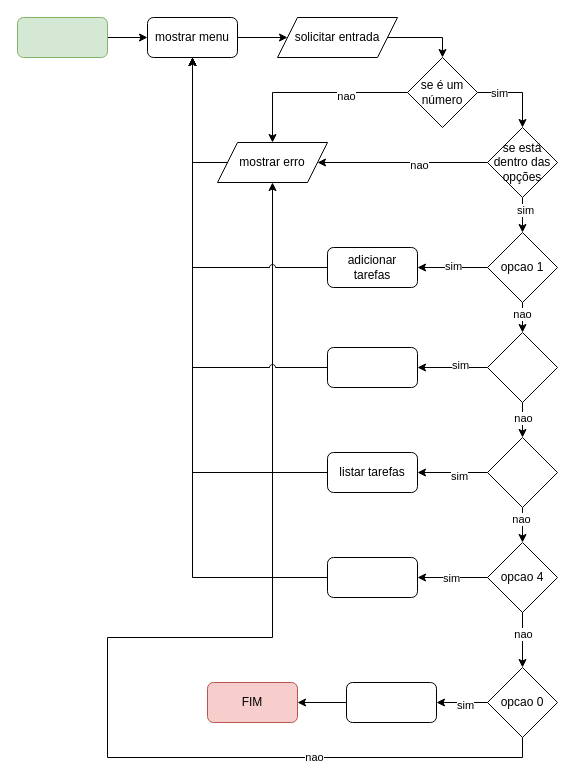
Some shapes in this 575 by 783 pixel diagram are drawn without their labels. Here are the shapes that lost their labels. From the top down, the centre of each, then its label:
At pixel 62 37: "INICIO".
At pixel 372 367: "excluir tarefas".
At pixel 522 367: "opcao 2".
At pixel 522 472: "opcao 3".
At pixel 372 577: "editar tarefa".
At pixel 391 702: "encerrar programa".
